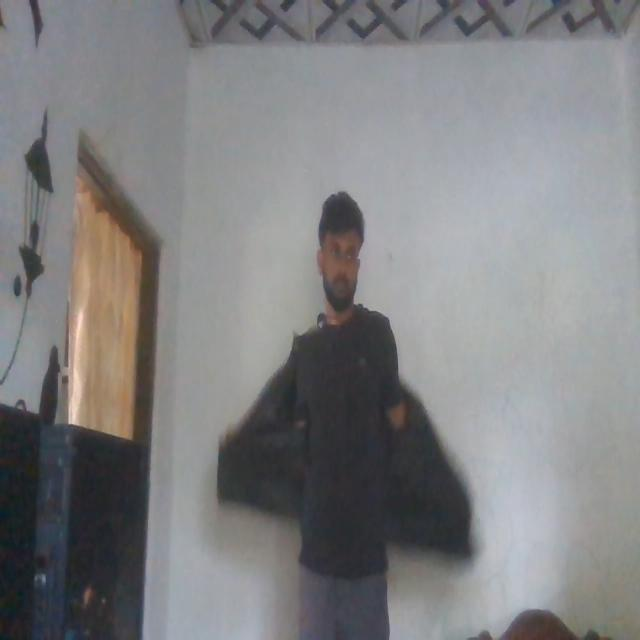Jacket_Wearer: (214, 298, 480, 572)
Person: (267, 166, 411, 640)
